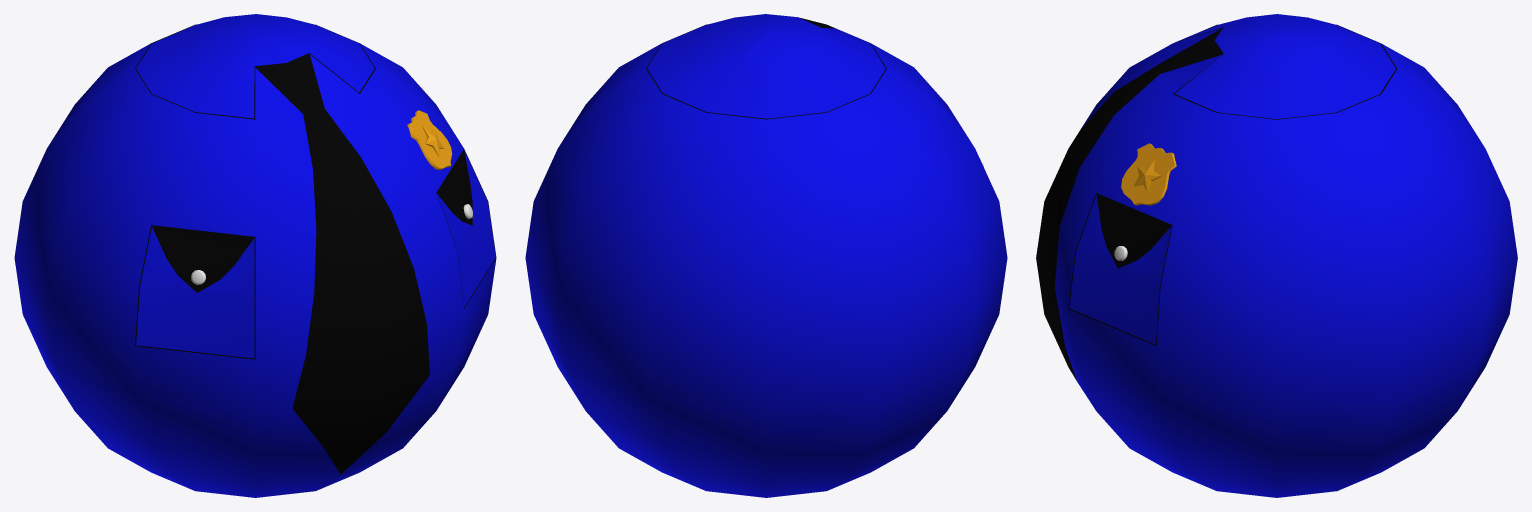
Rendered from NLS_DUO Police Officer Shirt.fbx.
The picture shows the model from 3 angles, left to right: view 1: azimuth 30°, elevation 25°; view 2: azimuth 150°, elevation 25°; view 3: azimuth 270°, elevation 25°; orthographic projection.
Visible parts, largest first — view 1: NLS_DUO Police Officer Shirt; view 2: NLS_DUO Police Officer Shirt; view 3: NLS_DUO Police Officer Shirt.
Part boxes in pixels (box(x1,y1,x2,y2)): NLS_DUO Police Officer Shirt: box(14, 14, 496, 497); NLS_DUO Police Officer Shirt: box(525, 14, 1007, 497); NLS_DUO Police Officer Shirt: box(1036, 14, 1517, 497).
Bounding box in the file's own units: 55.65 × 56.52 × 55.65.
